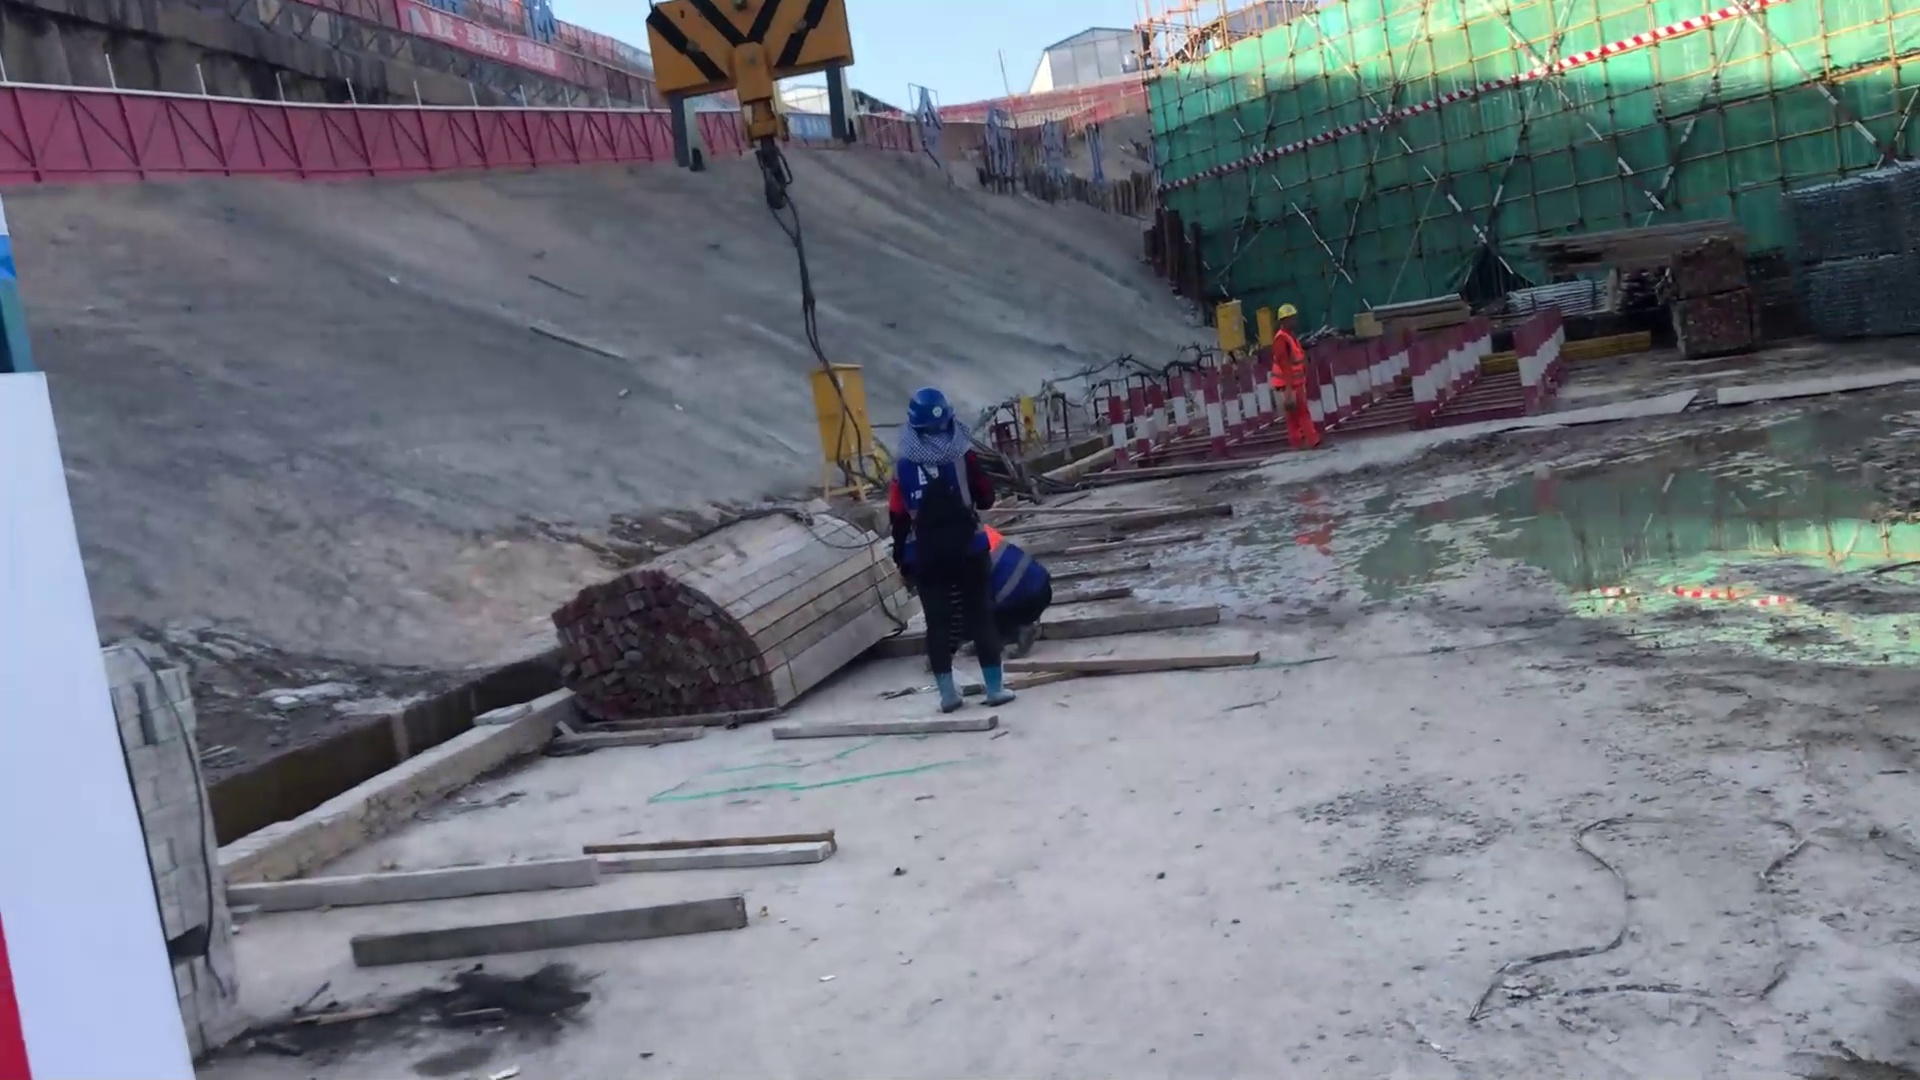brick: (89, 624, 264, 1059)
ebox: (799, 357, 864, 470), (1210, 288, 1251, 353)
fence: (8, 90, 619, 185)
helmet: (877, 376, 962, 468), (1252, 298, 1308, 344)
hook: (628, 1, 858, 176)
person: (874, 382, 1015, 710), (1260, 301, 1326, 449)
vest: (1263, 336, 1311, 408)
wood: (510, 507, 888, 726), (1514, 220, 1743, 267)
